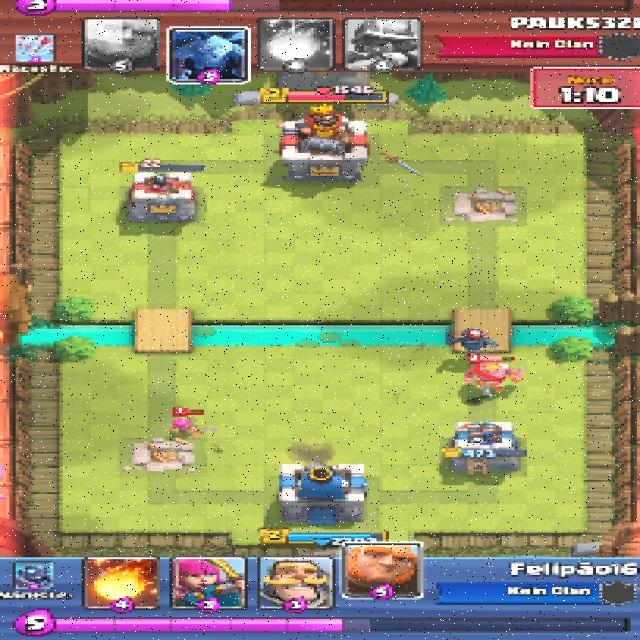Enemy-Archer: (168, 419, 198, 435)
Enemy-Knight: (462, 362, 521, 394)
Enemy-MiniPEKKA: (456, 330, 493, 352)
